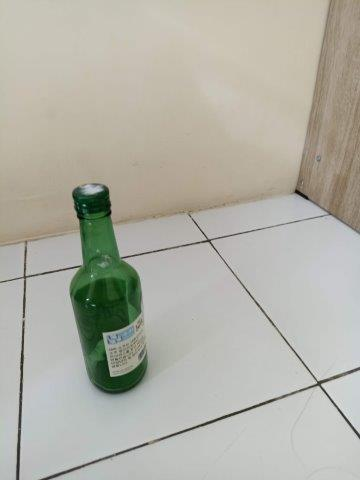botolkaca: (69, 183, 150, 394)
